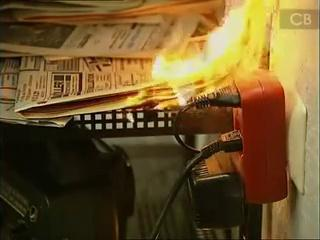Fire: (117, 1, 266, 118)
